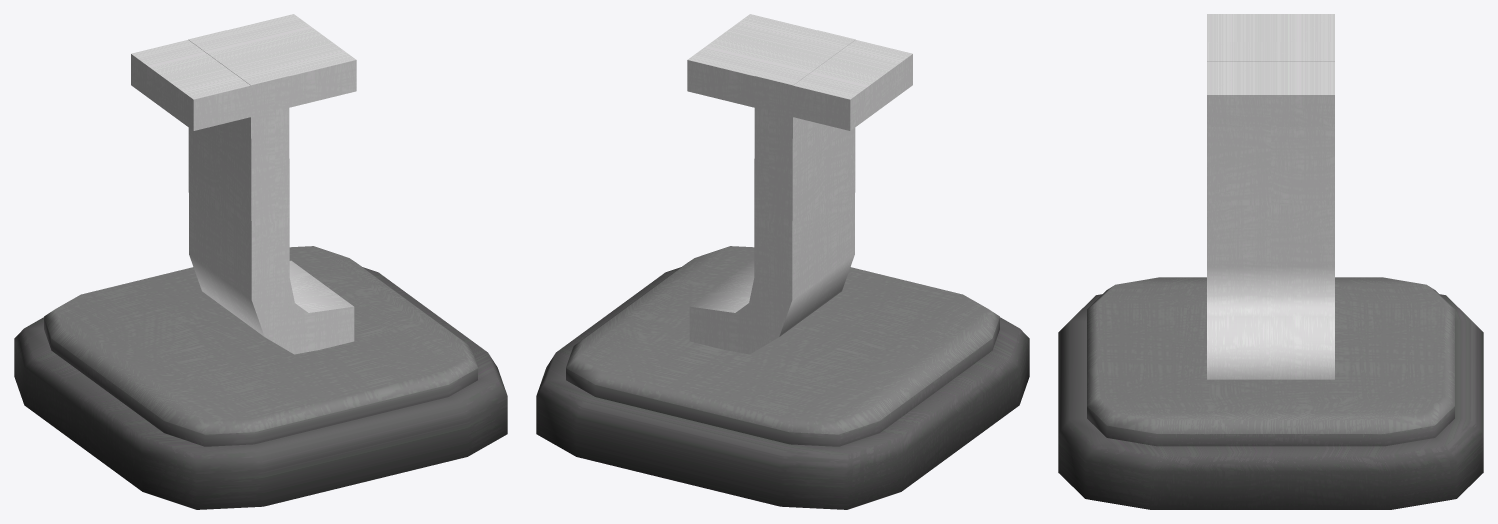
Rendered from Statue Letter J Hand.fbx.
The picture shows the model from 3 angles, left to right: view 1: azimuth 30°, elevation 25°; view 2: azimuth 150°, elevation 25°; view 3: azimuth 270°, elevation 25°; orthographic projection.
Visible parts, largest first — view 1: StatueBase (1), Letter; view 2: StatueBase (1), Letter; view 3: StatueBase (1), Letter.
Part boxes in pixels (bbox=[...]): StatueBase (1): bbox=[14, 246, 507, 509]; Letter: bbox=[131, 14, 356, 354]; StatueBase (1): bbox=[536, 246, 1029, 509]; Letter: bbox=[687, 14, 912, 354]; StatueBase (1): bbox=[1058, 277, 1483, 509]; Letter: bbox=[1207, 14, 1334, 379].
Bounding box in the file's own units: 0.9118 × 0.8657 × 0.9299.
